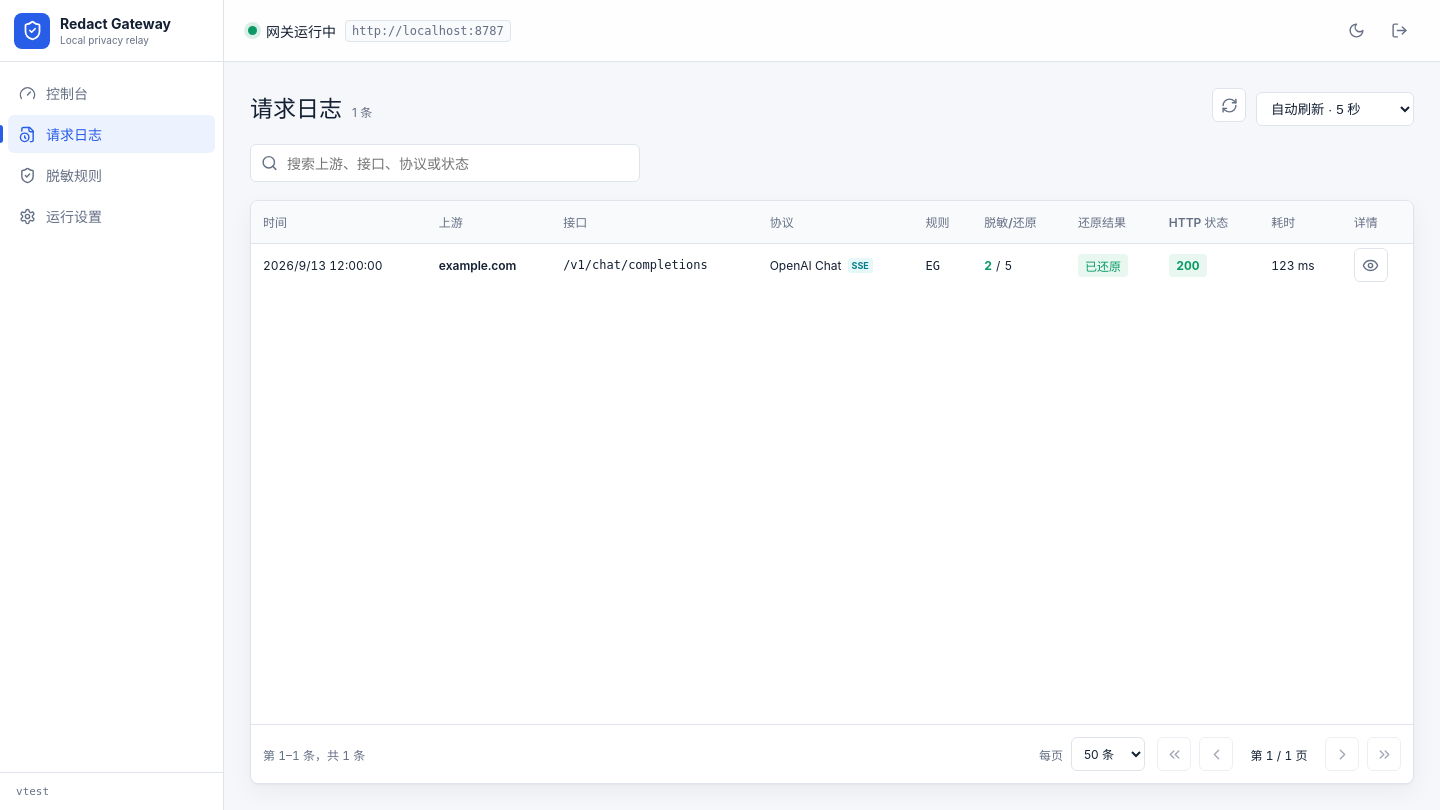
Scenario: App › shows unique and degraded counts separately from occurrence counts
Click the button named "查看请求 request-one 的详情".
click(1371, 265)  # box [1354,248,1388,282]
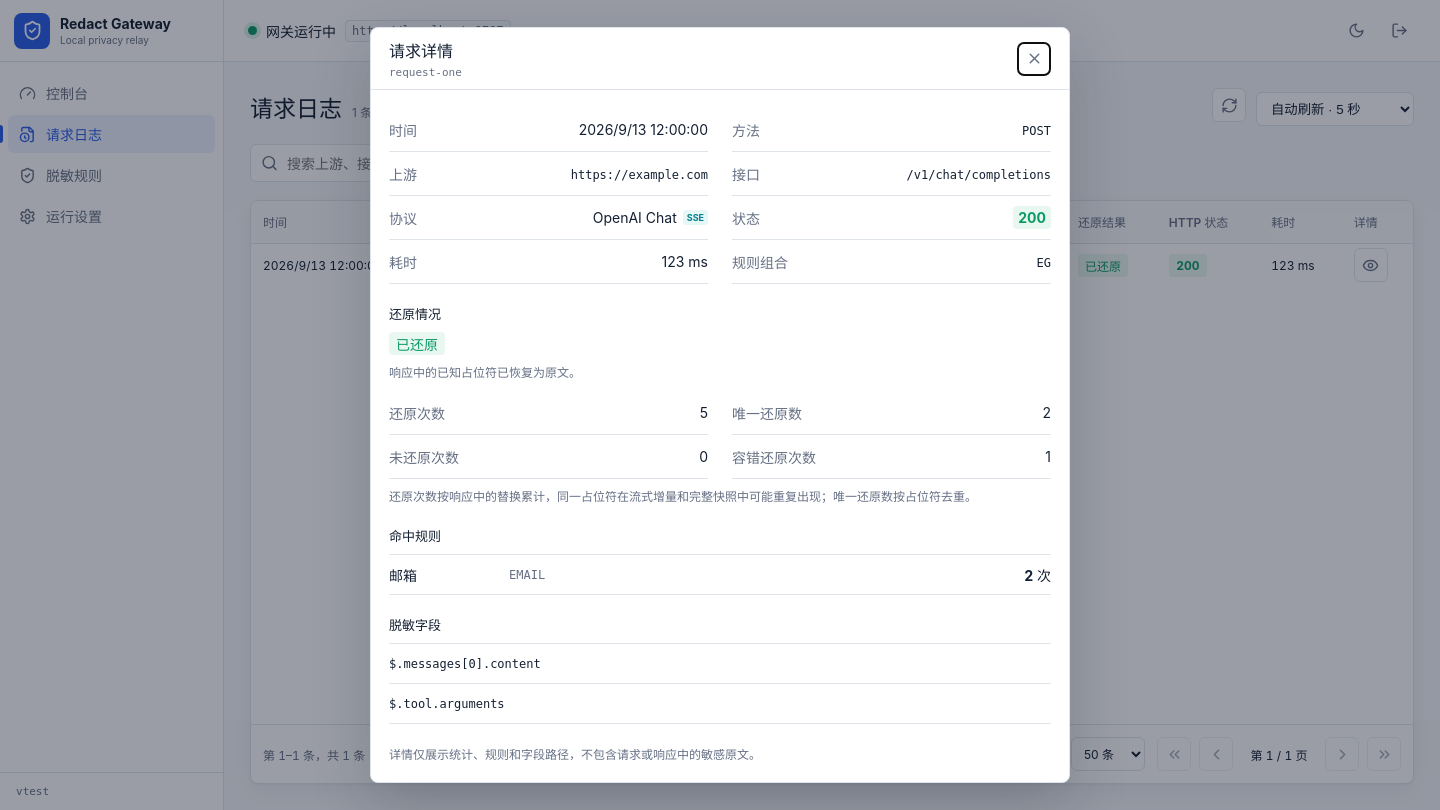
Expected: the text "5" is shown, [700,404,708,421]
Expected: the text "2" is shown, [1042,404,1051,421]
Expected: the text "1" is shown, [1045,448,1051,465]
